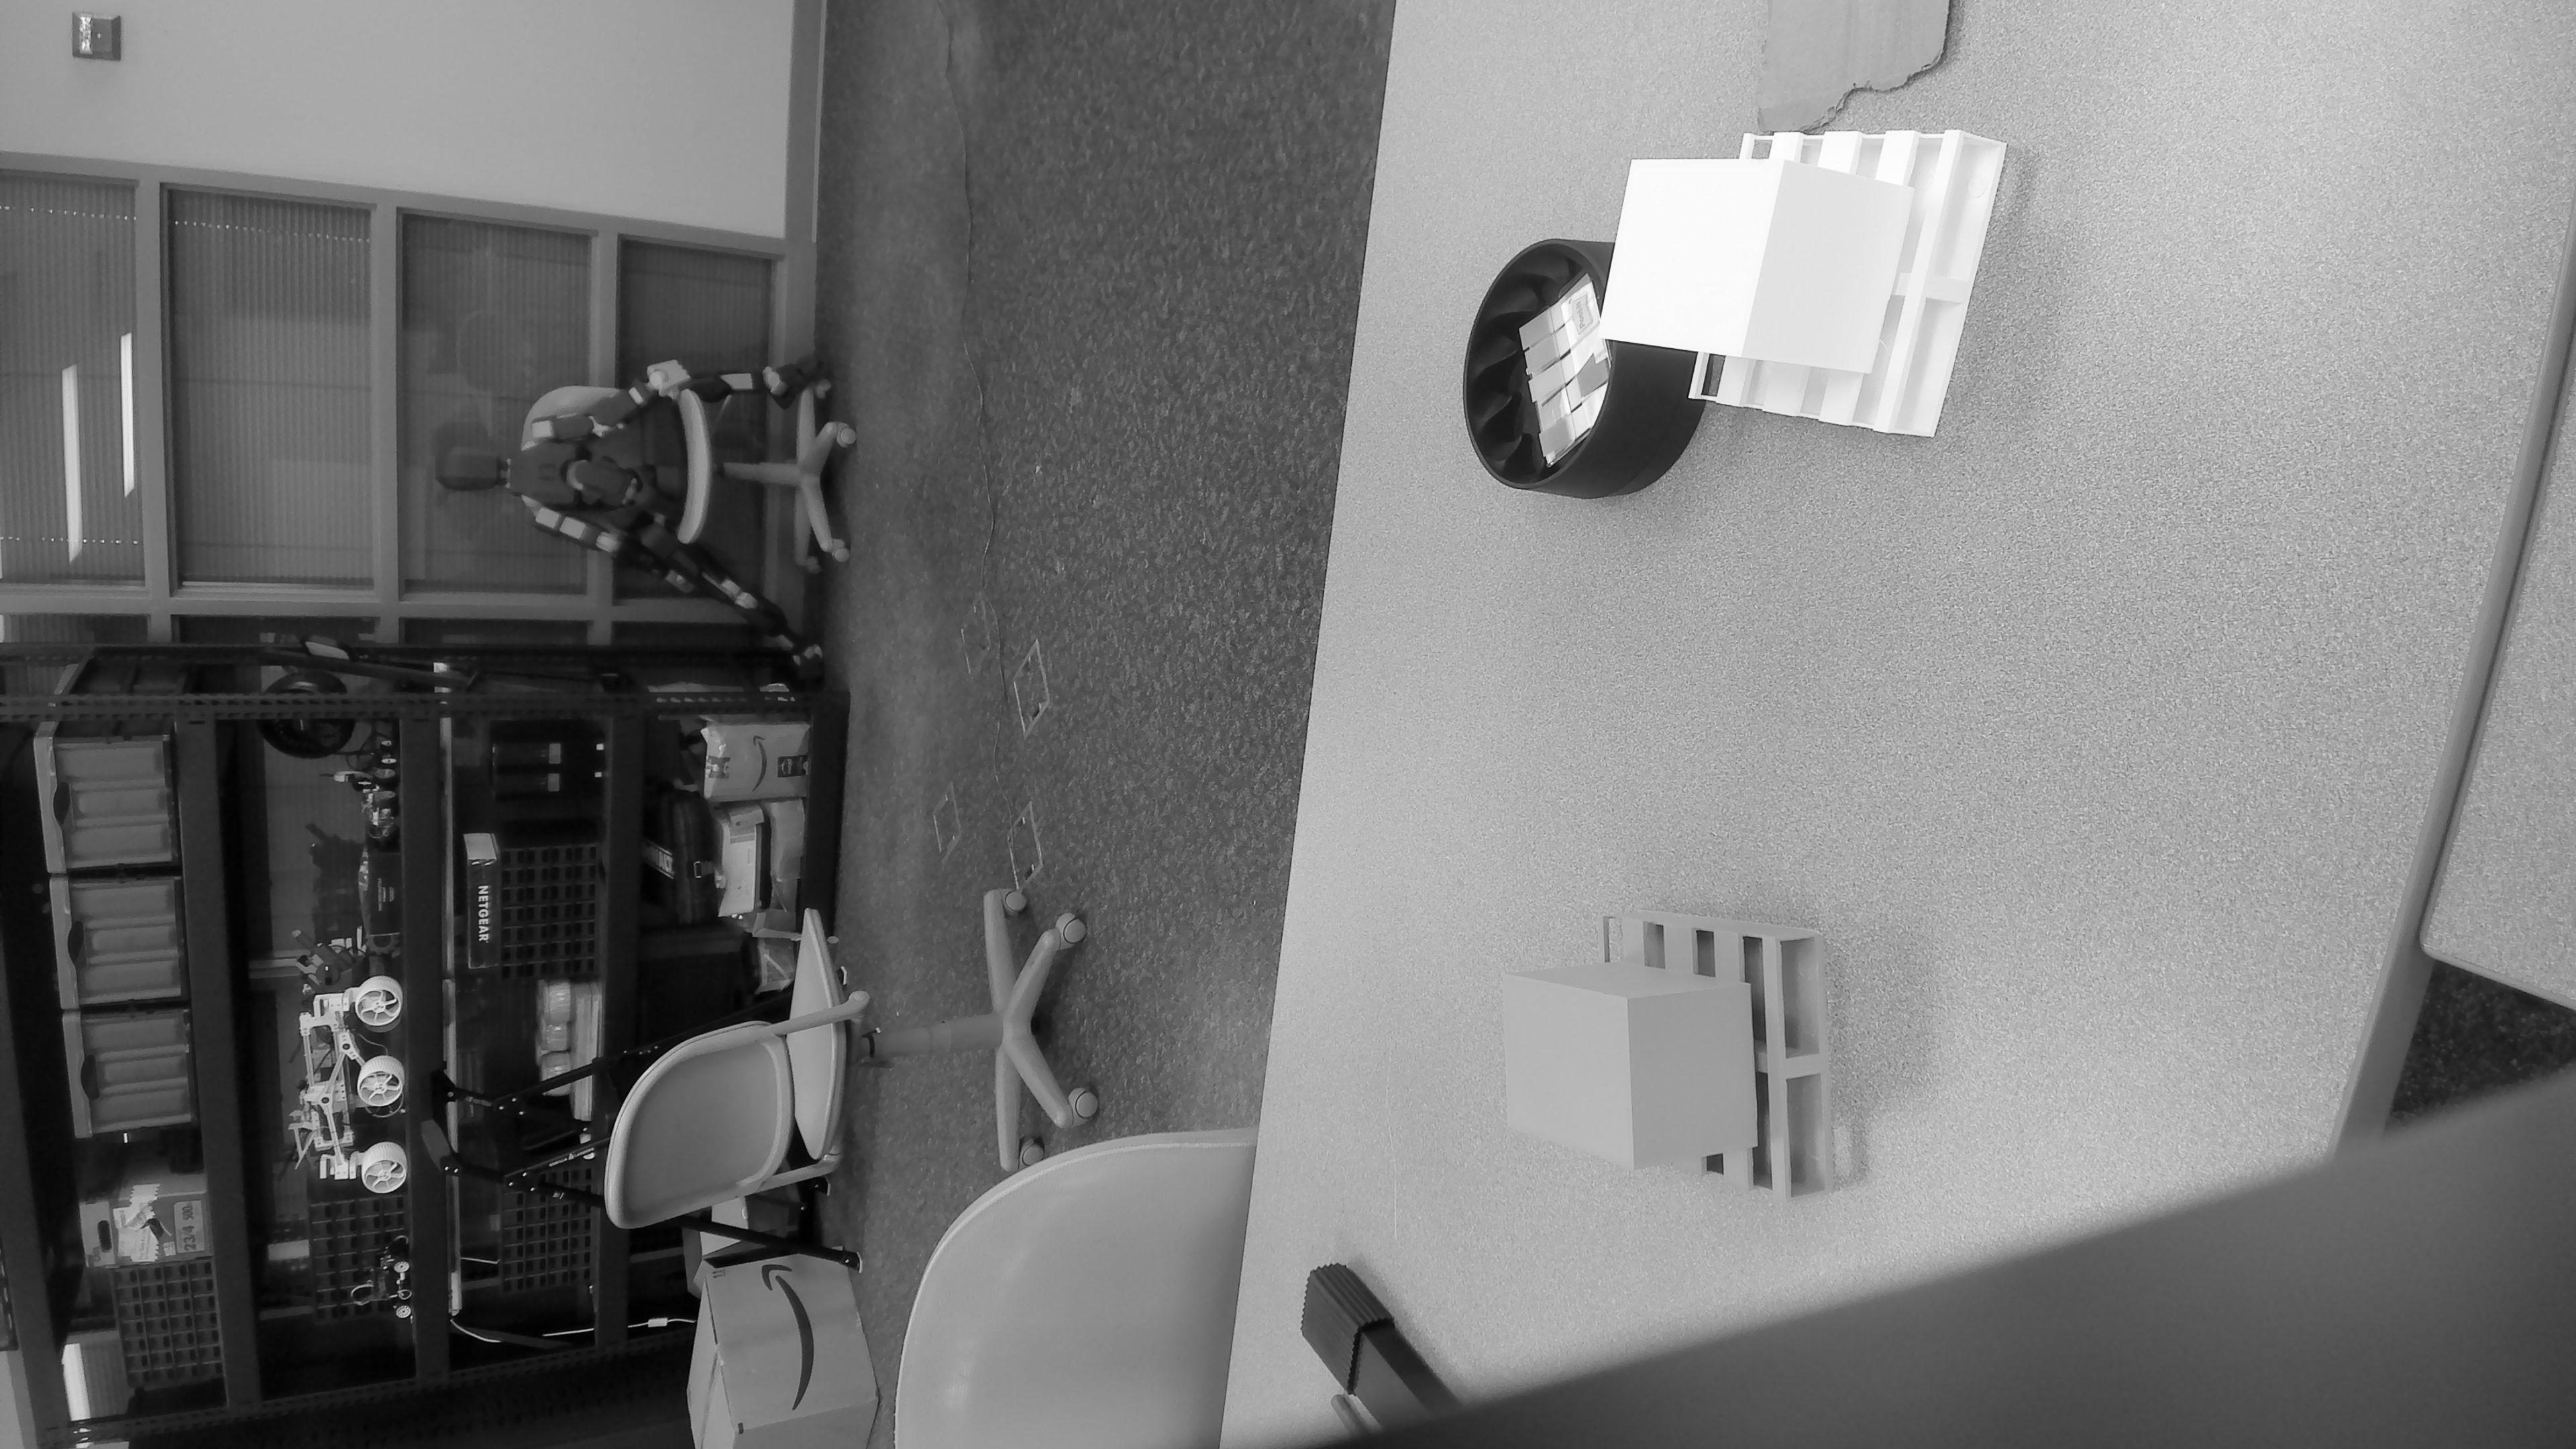grey pallet: (1491, 904, 1874, 1214)
white pallet: (1592, 101, 2015, 449)
